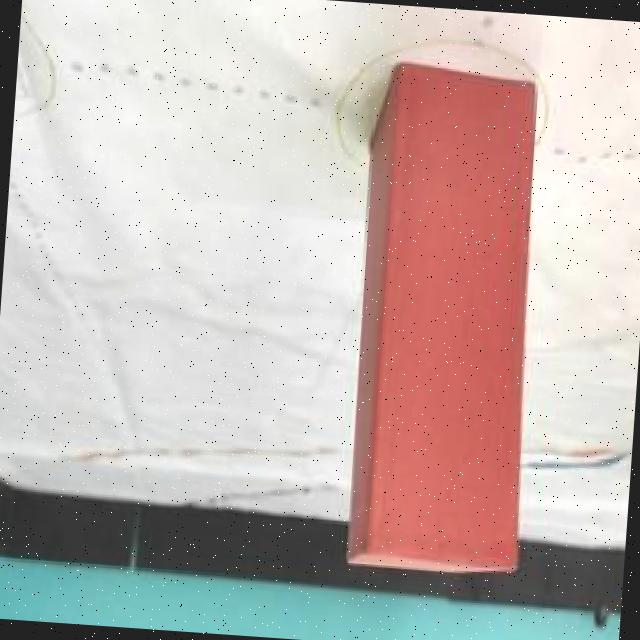redbox: (340, 58, 550, 580)
